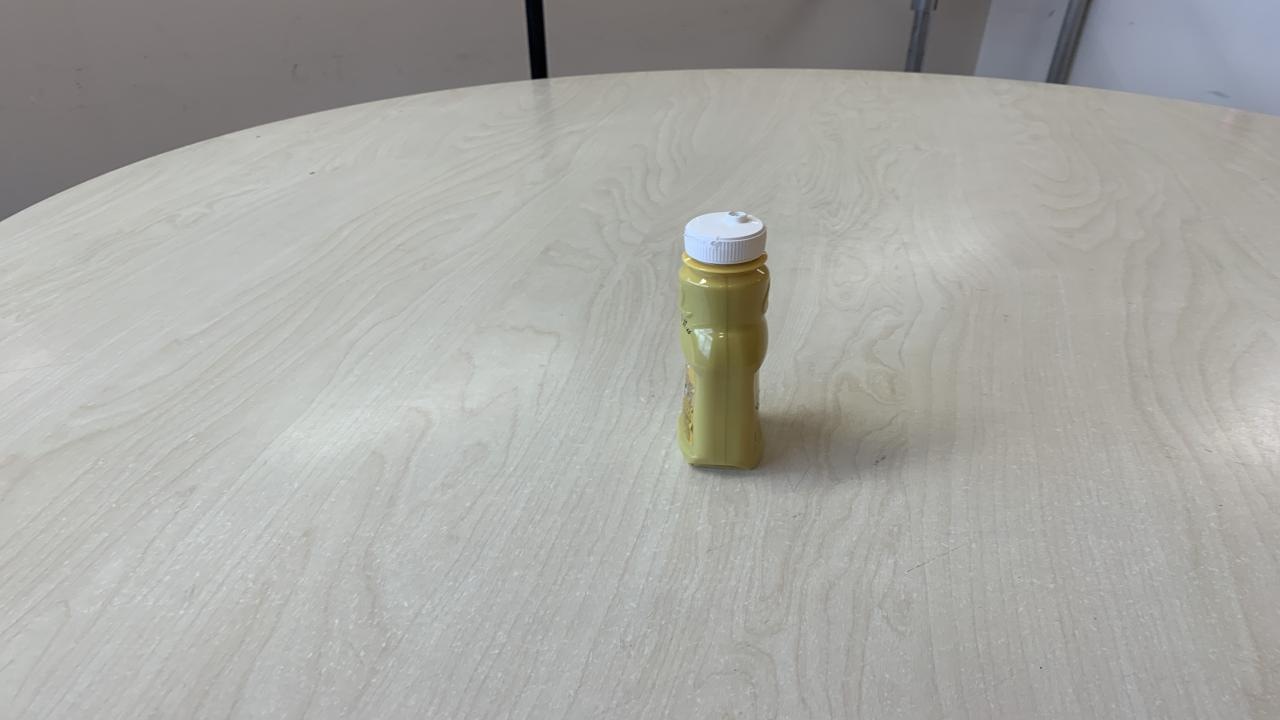Mustard-Pantry_Items: (676, 213, 772, 474)
